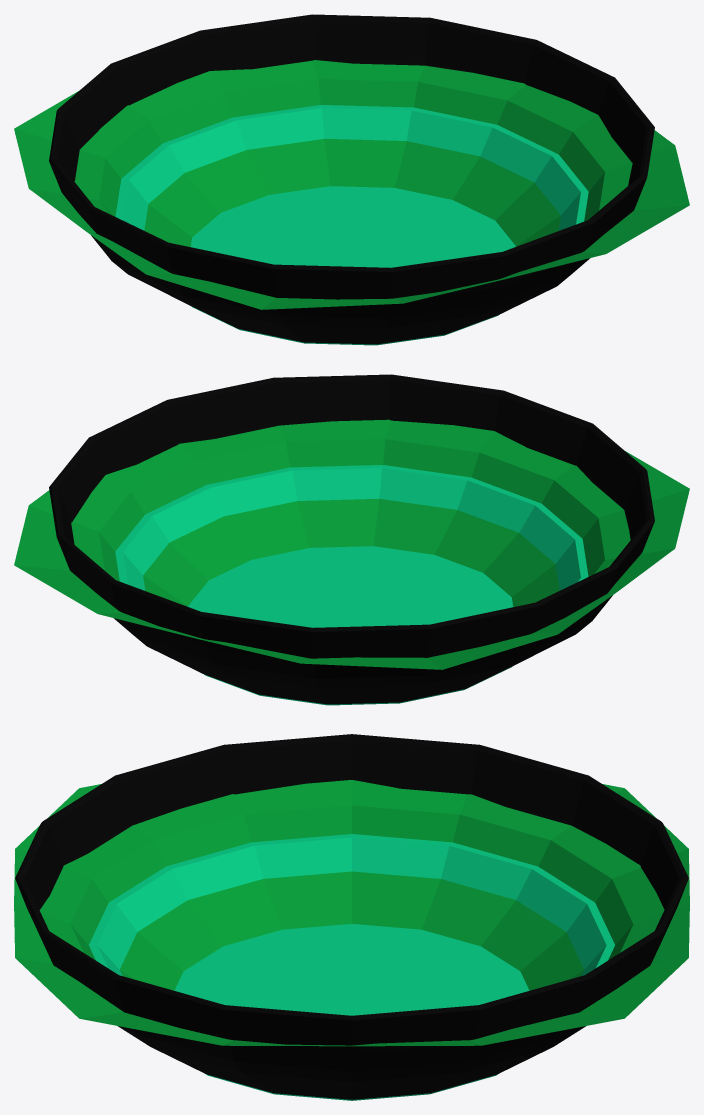
File: kithen_plates.fbx
3 renders of one model, top to bottom at view 1: azimuth 30°, elevation 25°; view 2: azimuth 150°, elevation 25°; view 3: azimuth 270°, elevation 25°, orthographic. The views are drawn at different scales.
Visible parts, largest first — view 1: plate_03, plate_02, plate_01; view 2: plate_03, plate_02, plate_01; view 3: plate_03, plate_02, plate_01.
Boxes of the visible parts, <box> form: plate_03: <box>14,60,689,309</box>; plate_02: <box>49,14,654,344</box>; plate_01: <box>115,105,588,345</box>; plate_03: <box>14,419,689,669</box>; plate_02: <box>49,374,654,704</box>; plate_01: <box>115,465,588,705</box>; plate_03: <box>14,780,689,1046</box>; plate_02: <box>15,734,688,1099</box>; plate_01: <box>89,834,614,1100</box>.
Size of the model in its own units: 22 by 22 by 5.
